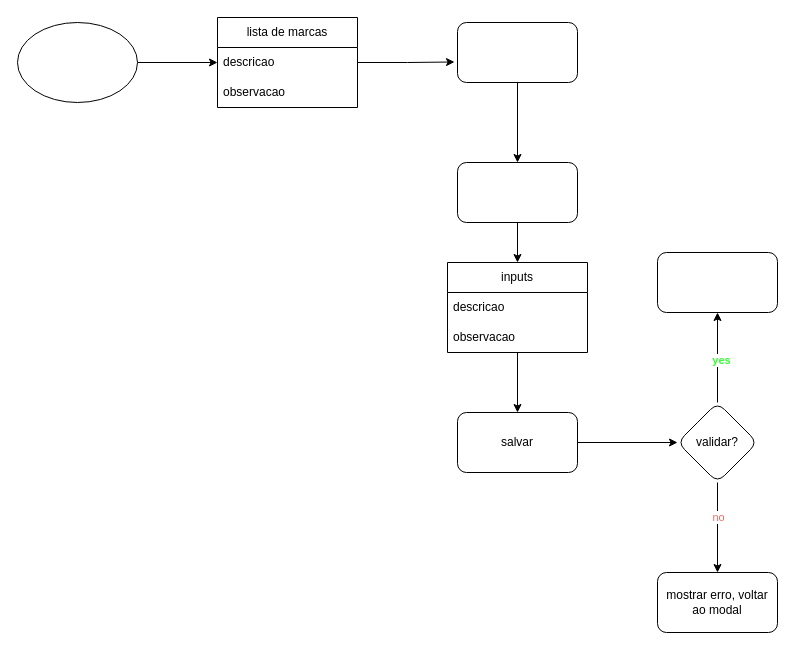
Some shapes in this 795 by 650 pixel diagram are drawn without their labels. The centre of each missing label's shape, as x and y in pixels:
"cadastrar marca" belongs at pixel 517 52.
"fecha modal" belongs at pixel 717 282.
"modal" belongs at pixel 517 192.
